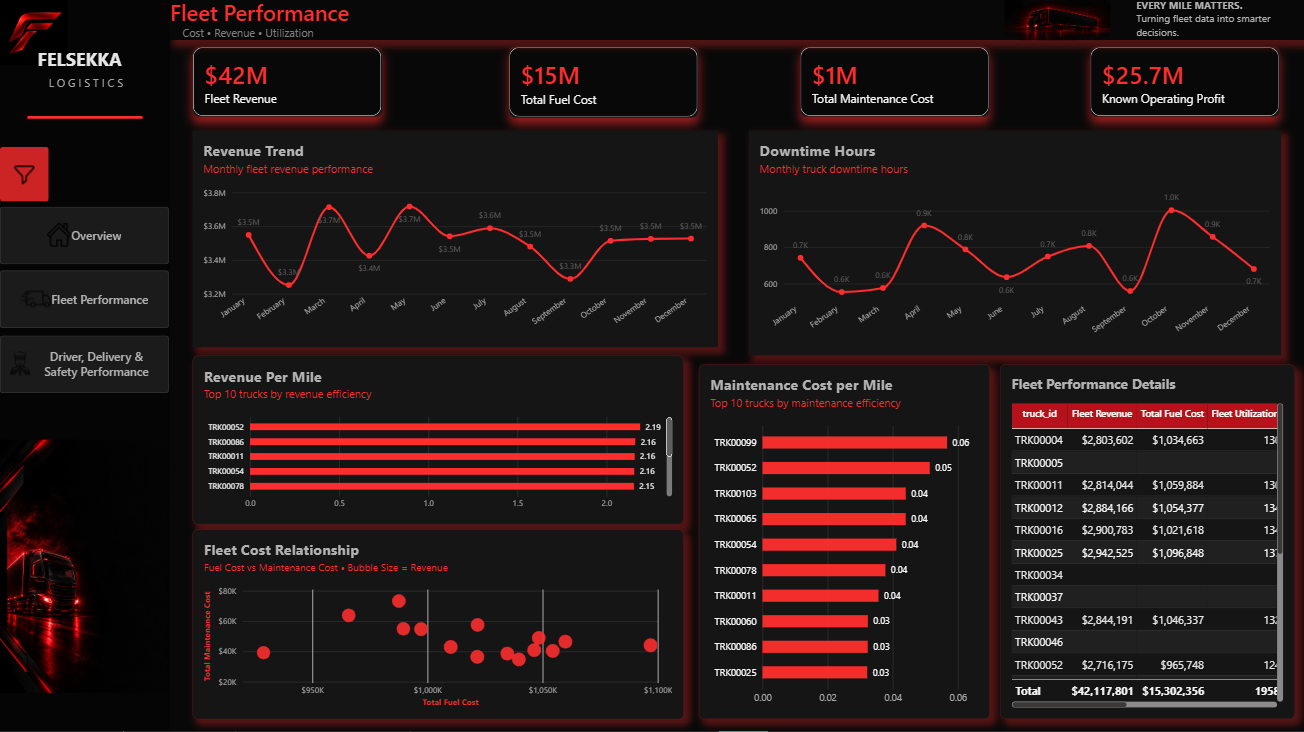

This screenshot's page, from the dashboard's own definition file:
{"tool":"powerbi","page":{"name":"Fleet performance","canvas":[1920,1080],"ordinal":1},"visuals":[{"type":"textbox","box":[268.7,40,248.5,27],"z":0},{"type":"cardVisual","fields":{"Data":["all measures.Fleet Revenue"]},"box":[283.4,71.8,279.8,103.1],"z":1000},{"type":"cardVisual","fields":{"Data":["all measures.Total Fuel Cost"]},"box":[749.1,71.8,279.8,104.9],"z":2000},{"type":"cardVisual","fields":{"Data":["all measures.Total Maintenance Cost"]},"box":[1177.9,71.8,279.8,103.1],"z":3000},{"type":"cardVisual","fields":{"Data":["all measures.Known Operating Profit"]},"box":[1604.9,71.8,279.8,103.1],"z":4000},{"type":"lineChart","title":"Revenue Trend","fields":{"Category":["truck_utilization_metrics.Month Year.Variation.Date Hierarchy.Month","truck_utilization_metrics.Month Year.Variation.Date Hierarchy.Day"],"Y":["all measures.Fleet Revenue"]},"box":[284.2,194.7,773.7,319.3],"z":5000},{"type":"lineChart","title":"Downtime Hours","fields":{"Category":["truck_utilization_metrics.Month Year.Variation.Date Hierarchy.Month","truck_utilization_metrics.Month Year.Variation.Date Hierarchy.Day"],"Y":["all measures.Total Downtime Hours"]},"box":[1102.5,195.1,784.1,331.3],"z":6000},{"type":"clusteredBarChart","title":"Revenue Per Mile","fields":{"Category":["trucks.truck_id"],"Y":["all measures.Revenue Per Mile"]},"box":[284.2,526.3,723.3,248.5],"z":7000},{"type":"clusteredBarChart","title":"Maintenance Cost per Mile","fields":{"Category":["trucks.truck_id"],"Y":["all measures.Maintenance Cost Per Mile"]},"box":[1028.8,539.3,428.8,522.7],"z":8000},{"type":"scatterChart","title":"Fleet Cost Relationship","fields":{"Category":["trucks.truck_id"],"Size":["all measures.Fleet Revenue"],"X":["all measures.Total Fuel Cost"],"Y":["all measures.Total Maintenance Cost"]},"box":[284,782,723.3,279.8],"z":9000},{"type":"textbox","box":[250.3,0,1669.3,62.6],"z":10000},{"type":"tableEx","title":"Fleet Performance Details","fields":{"Values":["trucks.truck_id","all measures.Fleet Revenue","all measures.Total Fuel Cost","all measures.Fleet Utilization Miles","all measures.Total Maintenance Cost","all measures.Revenue Per Mile","all measures.Maintenance Cost Per Mile"]},"box":[1472.4,539.3,434.4,522.7],"z":11000},{"type":"shape","box":[0,0,250.3,1080.4],"z":12000},{"type":"actionButton","title":"slicer button","box":[0,219,71.8,81],"z":13000},{"type":"image","box":[1369.3,0,375.5,62.6],"z":15000},{"type":"image","box":[0,0,99.4,99.4],"z":16000},{"type":"textbox","box":[55.2,71.8,138,53.4],"z":17000},{"type":"textbox","box":[71.8,115,178.5,35],"z":18000},{"type":"shape","box":[40.5,25.8,169.3,300],"z":19000},{"type":"actionButton","box":[0,307.4,248.5,84.7],"z":20000},{"type":"actionButton","box":[0,401.2,248.5,84.7],"z":21000},{"type":"actionButton","box":[0,496.9,248.5,84.7],"z":22000},{"type":"image","box":[0,592.3,248.5,487.7],"z":23000},{"type":"textbox","box":[1673,0,246.6,62.6],"z":24000}]}

Visuals, with their boxes on the page's 1920x1080 design canvas (x1, y1, x2, y2). These are canvas units, not pixel positions in the 1304x732 screenshot, which may show the page scaled, cropped or inside an application window:
textbox: {"x1": 269, "y1": 40, "x2": 517, "y2": 67}
cardVisual - all measures.Fleet Revenue: {"x1": 283, "y1": 72, "x2": 563, "y2": 175}
cardVisual - all measures.Total Fuel Cost: {"x1": 749, "y1": 72, "x2": 1029, "y2": 177}
cardVisual - all measures.Total Maintenance Cost: {"x1": 1178, "y1": 72, "x2": 1458, "y2": 175}
cardVisual - all measures.Known Operating Profit: {"x1": 1605, "y1": 72, "x2": 1885, "y2": 175}
"Revenue Trend" lineChart: {"x1": 284, "y1": 195, "x2": 1058, "y2": 514}
"Downtime Hours" lineChart: {"x1": 1102, "y1": 195, "x2": 1887, "y2": 526}
"Revenue Per Mile" clusteredBarChart: {"x1": 284, "y1": 526, "x2": 1008, "y2": 775}
"Maintenance Cost per Mile" clusteredBarChart: {"x1": 1029, "y1": 539, "x2": 1458, "y2": 1062}
"Fleet Cost Relationship" scatterChart: {"x1": 284, "y1": 782, "x2": 1007, "y2": 1062}
textbox: {"x1": 250, "y1": 0, "x2": 1920, "y2": 63}
"Fleet Performance Details" tableEx: {"x1": 1472, "y1": 539, "x2": 1907, "y2": 1062}
shape: {"x1": 0, "y1": 0, "x2": 250, "y2": 1080}
"slicer button" actionButton: {"x1": 0, "y1": 219, "x2": 72, "y2": 300}
image: {"x1": 1369, "y1": 0, "x2": 1745, "y2": 63}
image: {"x1": 0, "y1": 0, "x2": 99, "y2": 99}
textbox: {"x1": 55, "y1": 72, "x2": 193, "y2": 125}
textbox: {"x1": 72, "y1": 115, "x2": 250, "y2": 150}
shape: {"x1": 40, "y1": 26, "x2": 210, "y2": 326}
actionButton: {"x1": 0, "y1": 307, "x2": 248, "y2": 392}
actionButton: {"x1": 0, "y1": 401, "x2": 248, "y2": 486}
actionButton: {"x1": 0, "y1": 497, "x2": 248, "y2": 582}
image: {"x1": 0, "y1": 592, "x2": 248, "y2": 1080}
textbox: {"x1": 1673, "y1": 0, "x2": 1920, "y2": 63}
